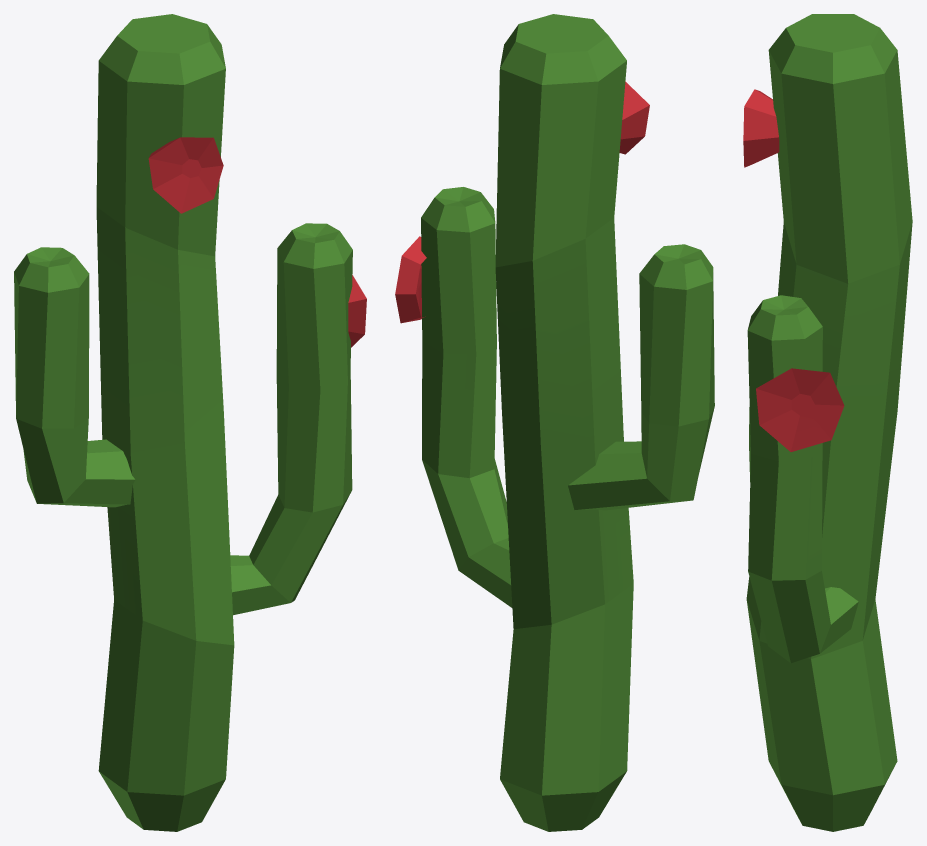
File: nature_cactus-big.fbx
3 renders of one model, left to right at view 1: azimuth 30°, elevation 25°; view 2: azimuth 150°, elevation 25°; view 3: azimuth 270°, elevation 25°, orthographic.
Visible parts, largest first — view 1: nature_cactus_big; view 2: nature_cactus_big; view 3: nature_cactus_big.
Boxes of the visible parts, x1,y1,x2,y2 form: nature_cactus_big: (14,14,366,831); nature_cactus_big: (395,14,714,831); nature_cactus_big: (743,14,912,831).
Size of the model in its own units: 83.64 by 200 by 39.19.
